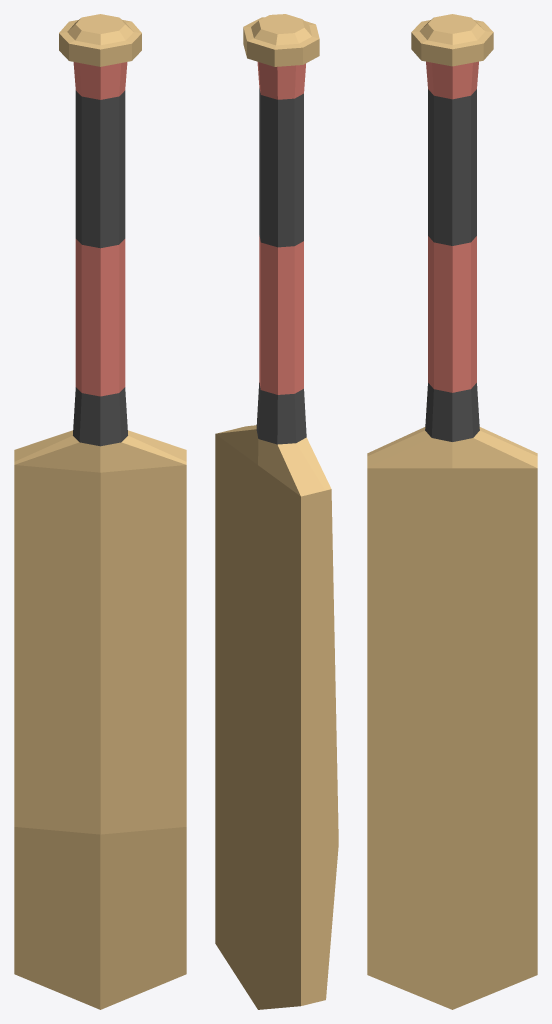
Rendered from Cricket_Bat_01.gltf.
The picture shows the model from 3 angles, left to right: view 1: azimuth 90°, elevation 25°; view 2: azimuth 210°, elevation 25°; view 3: azimuth 270°, elevation 25°; orthographic projection.
Parts seen in each view (by area): view 1: node-0; view 2: node-0; view 3: node-0.
Boxes of the visible parts, x1=… form: node-0: x1=14, y1=14, x2=186, y2=1009; node-0: x1=215, y1=14, x2=338, y2=1009; node-0: x1=367, y1=14, x2=537, y2=1009.
Bounding box in the file's own units: 1.12 × 15.24 × 2.42.
